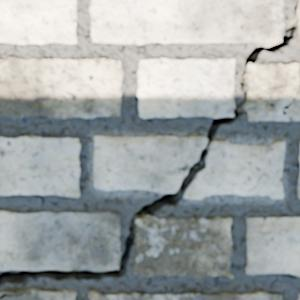brick: (90, 0, 283, 43), (0, 57, 122, 118), (0, 211, 119, 270), (133, 217, 232, 277), (138, 58, 234, 117), (0, 136, 79, 196), (0, 0, 76, 43), (245, 218, 299, 275), (245, 63, 299, 120), (89, 291, 281, 299), (3, 288, 75, 299), (0, 289, 20, 294), (298, 3, 299, 44), (298, 177, 299, 197)
broken_brick: (93, 135, 206, 194), (184, 140, 285, 199)
crack: (0, 0, 299, 287), (282, 62, 299, 115), (0, 288, 25, 299), (0, 56, 12, 63)
